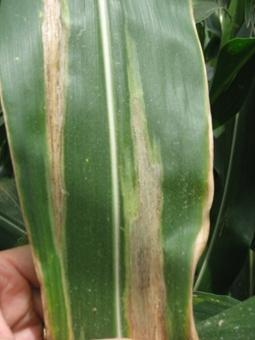Corn_Blight: (112, 25, 174, 336), (36, 3, 79, 338), (187, 84, 226, 336)
